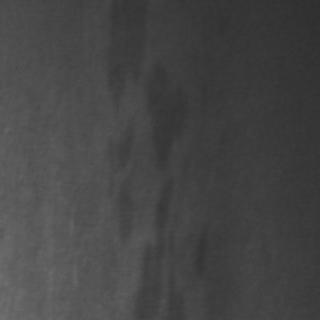inclusion: (133, 58, 189, 316), (95, 0, 147, 252)
